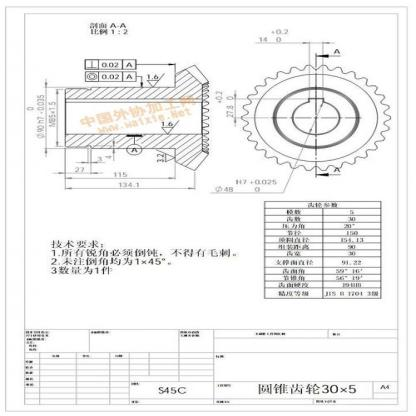FOD: (237, 60, 396, 174)
